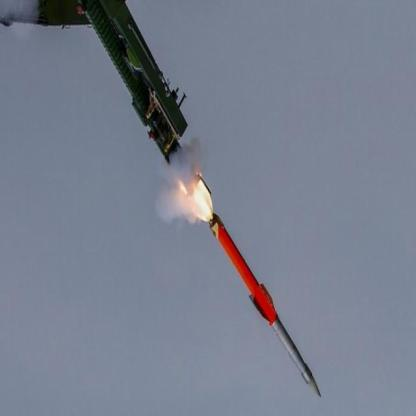MIL_TBM: (192, 184, 328, 406)
